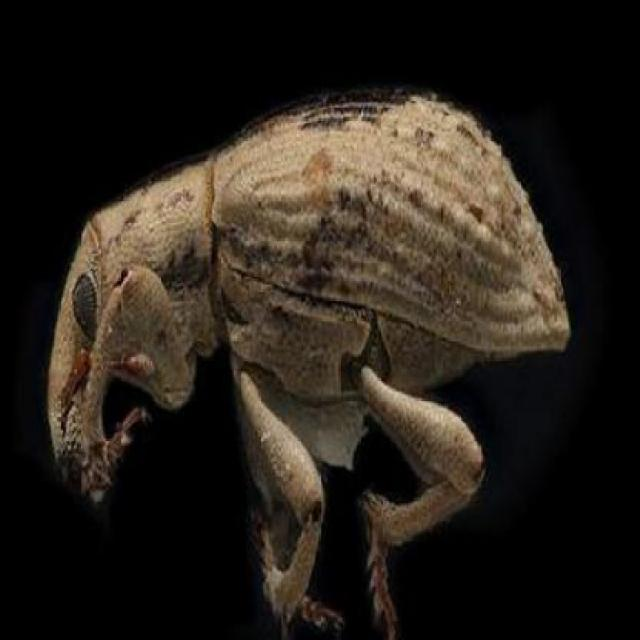rice-bug: (50, 89, 572, 588)
